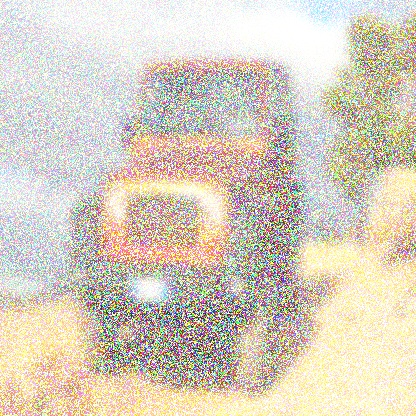Vehicle: (67, 50, 305, 401)
